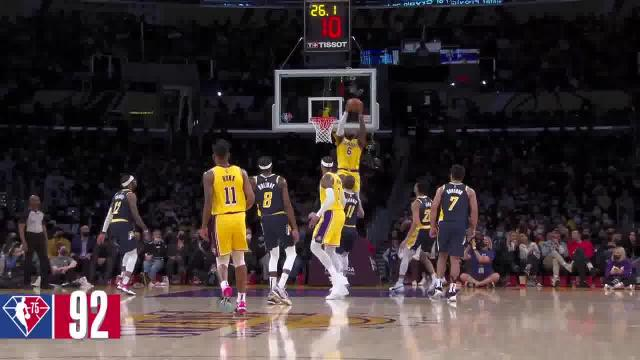ball-handler: (334, 96, 368, 213)
player: (198, 139, 256, 314), (249, 157, 299, 311), (99, 172, 152, 296), (433, 160, 478, 305), (312, 155, 349, 302), (400, 179, 440, 302), (338, 175, 362, 290)
